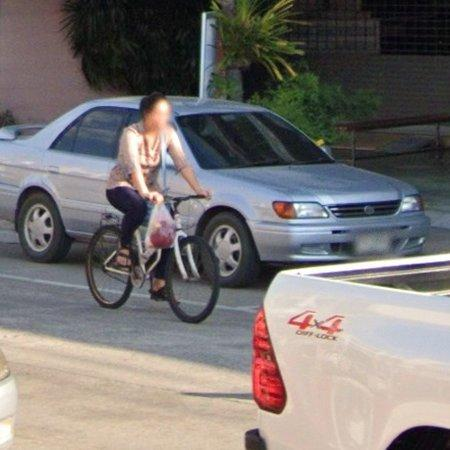bicycles: (167, 237, 219, 324)
